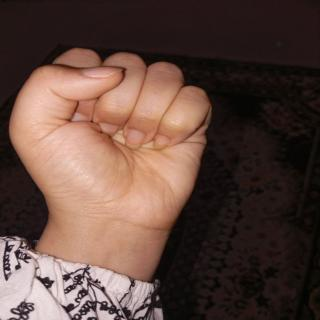SAD: (5, 45, 218, 240)
